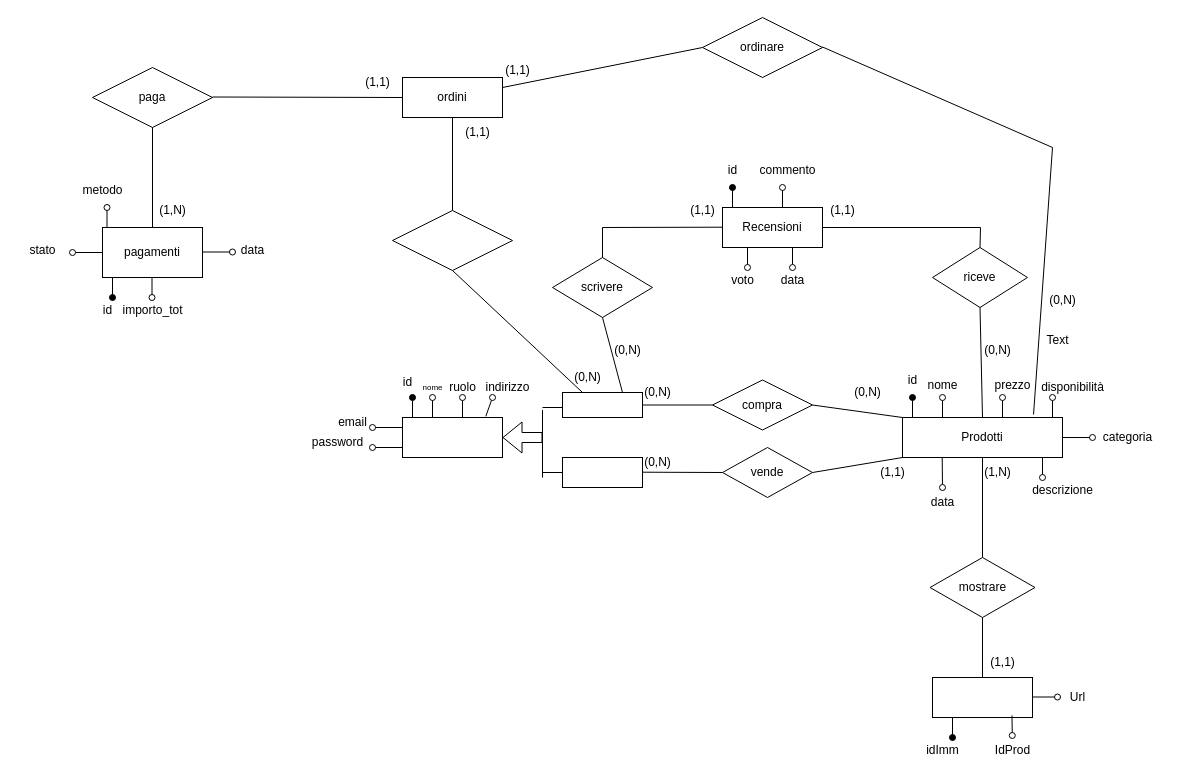
This 1179x783 diagram has some shape labels left out. The shapes that lost their labels are listed below. From the top down, each one's box as (x1, y1, x2, y2) in pixels, then its label:
(392, 210, 512, 270): effettua
(562, 392, 642, 418): Cliente
(402, 416, 502, 458): Utenti
(562, 456, 642, 488): Artigiano
(932, 676, 1032, 718): Immagini
